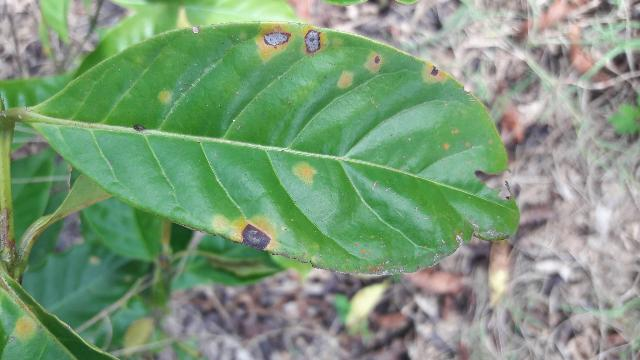rust_level_2: (35, 22, 512, 274)
